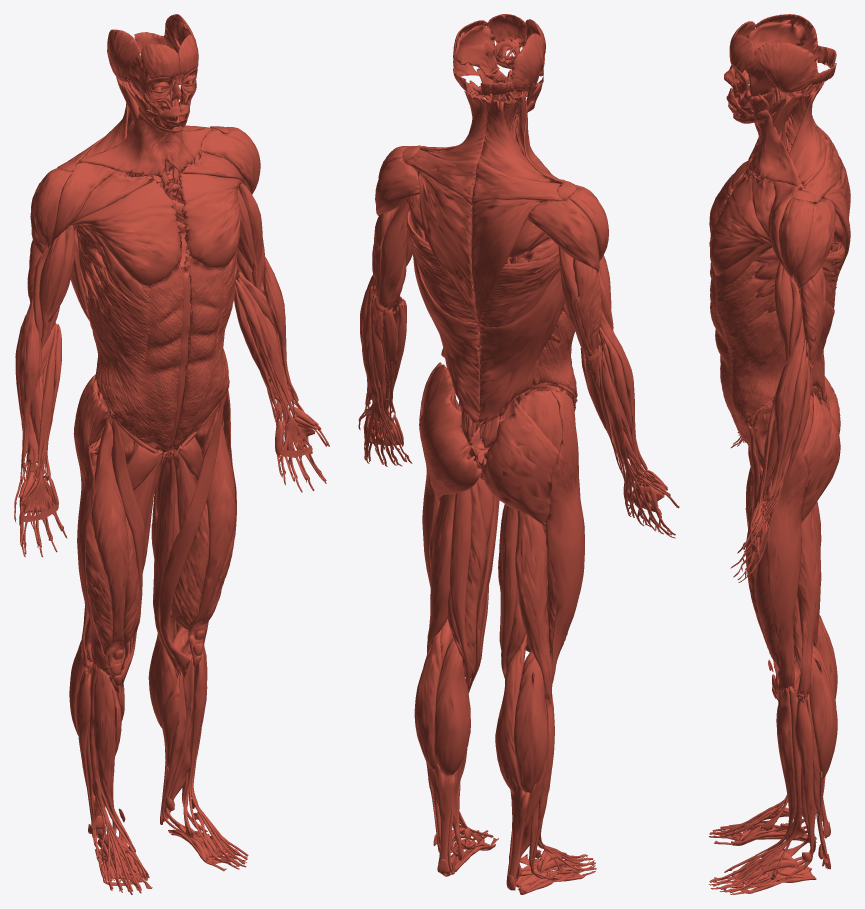
File: corps-muscles-mobile.glb
The picture shows the model from 3 angles, left to right: view 1: azimuth 30°, elevation 25°; view 2: azimuth 150°, elevation 25°; view 3: azimuth 270°, elevation 25°; orthographic projection.
Visible parts, largest first — view 1: Body; view 2: Body; view 3: Body.
Boxes of the visible parts, x1,y1,x2,y2 form: Body: (14, 14, 329, 894); Body: (358, 14, 679, 894); Body: (708, 14, 850, 894).
Bounding box in the file's own units: 0.6599 × 1.67 × 0.2586.
